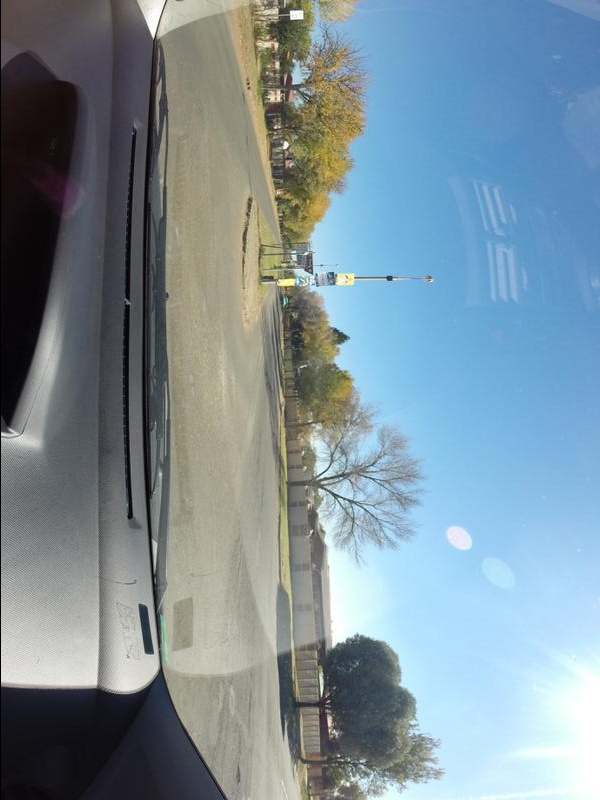pothole: (235, 770, 242, 784)
